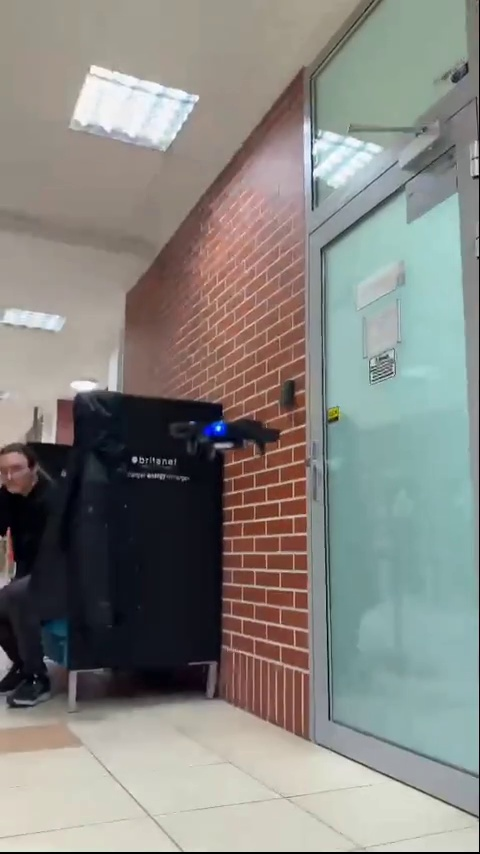drone: (170, 414, 294, 463)
no vest: (0, 445, 77, 709)
